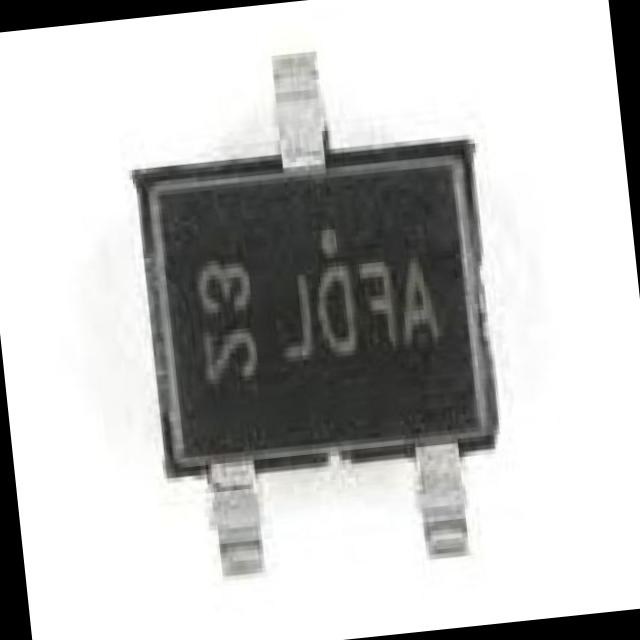transistor: (121, 18, 512, 573)
